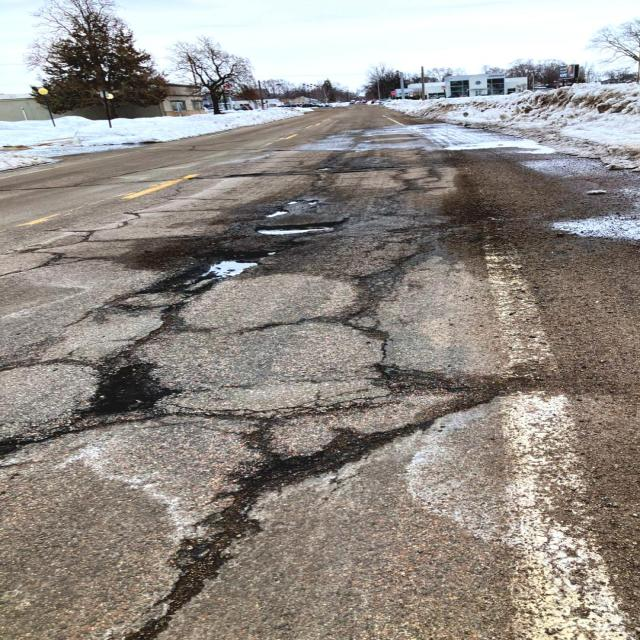pothole: (219, 438, 384, 492), (81, 358, 178, 426), (175, 245, 276, 284), (247, 206, 353, 239)
